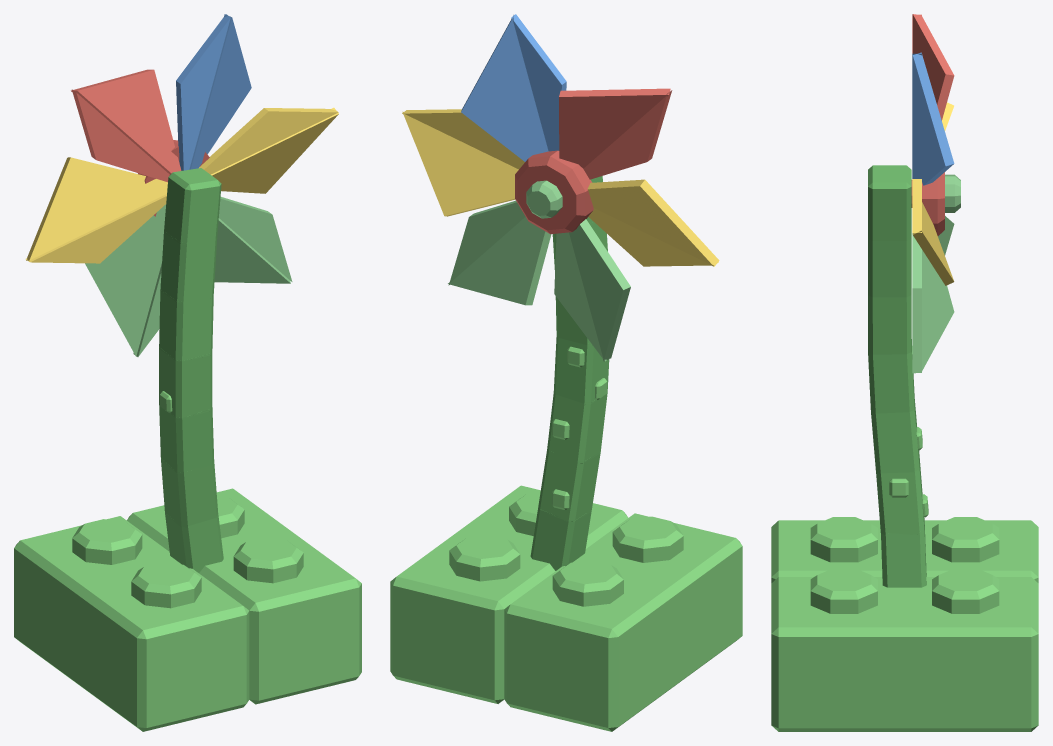
File: ToylandPinwheelPlant.fbx
3 views of the same model, side by side, from view 1: azimuth 30°, elevation 25°; view 2: azimuth 150°, elevation 25°; view 3: azimuth 270°, elevation 25° (orthographic). The views are drawn at different scales.
Visible parts, largest first — view 1: ToylandPinwheelPlant.Brick, ToylandPinwheelPlant.Stem, ToylandPinwheelPlant.BladeYellow, ToylandPinwheelPlant.BladeGreen, ToylandPinwheelPlant.BladeRed, ToylandPinwheelPlant.BladeBlue; view 2: ToylandPinwheelPlant.Brick, ToylandPinwheelPlant.BladeYellow, ToylandPinwheelPlant.BladeGreen, ToylandPinwheelPlant.Stem, ToylandPinwheelPlant.BladeBlue, ToylandPinwheelPlant.BladeRed, ToylandPinwheelPlant.Hub; view 3: ToylandPinwheelPlant.Brick, ToylandPinwheelPlant.Stem, ToylandPinwheelPlant.BladeGreen, ToylandPinwheelPlant.BladeBlue, ToylandPinwheelPlant.BladeRed, ToylandPinwheelPlant.BladeYellow, ToylandPinwheelPlant.Hub.
Part boxes in pixels (<box>): ToylandPinwheelPlant.Brick: <box>14,391,361,731</box>; ToylandPinwheelPlant.Stem: <box>159,168,223,572</box>; ToylandPinwheelPlant.BladeYellow: <box>25,107,338,263</box>; ToylandPinwheelPlant.BladeGreen: <box>85,197,292,356</box>; ToylandPinwheelPlant.BladeRed: <box>71,69,181,182</box>; ToylandPinwheelPlant.BladeBlue: <box>176,14,251,170</box>; ToylandPinwheelPlant.Brick: <box>390,346,742,731</box>; ToylandPinwheelPlant.BladeYellow: <box>402,109,719,266</box>; ToylandPinwheelPlant.BladeGreen: <box>448,180,630,361</box>; ToylandPinwheelPlant.Stem: <box>530,176,609,570</box>; ToylandPinwheelPlant.BladeBlue: <box>461,14,566,161</box>; ToylandPinwheelPlant.BladeRed: <box>559,88,672,179</box>; ToylandPinwheelPlant.Hub: <box>515,150,593,234</box>; ToylandPinwheelPlant.Brick: <box>771,346,1038,731</box>; ToylandPinwheelPlant.Stem: <box>868,165,926,587</box>; ToylandPinwheelPlant.BladeGreen: <box>912,174,960,373</box>; ToylandPinwheelPlant.BladeBlue: <box>912,52,954,185</box>; ToylandPinwheelPlant.BladeRed: <box>912,14,954,120</box>; ToylandPinwheelPlant.BladeYellow: <box>912,102,954,285</box>; ToylandPinwheelPlant.Hub: <box>911,172,944,235</box>.
Bounding box in the file's own units: 3.03 × 5.89 × 2.2.
